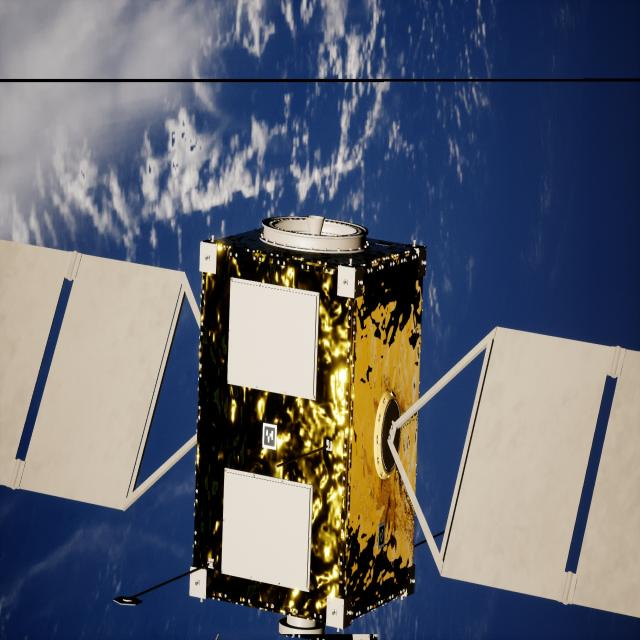satellite: (0, 217, 640, 633)
